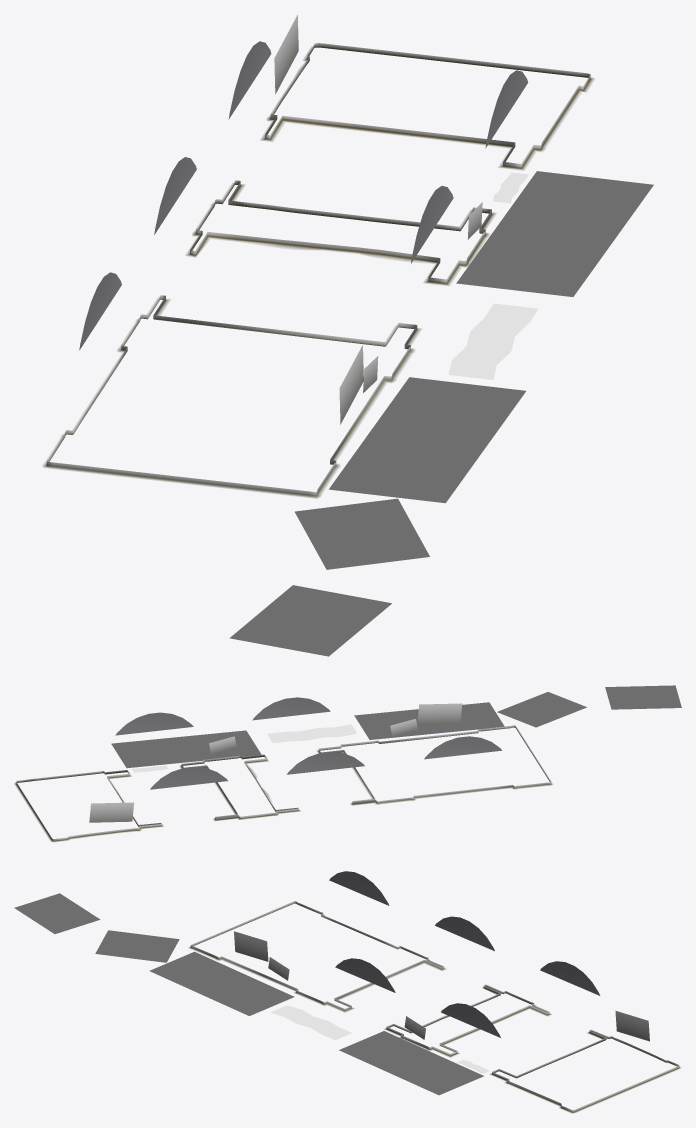
The model's file is bay_bx_glualfa02.FBX.
The picture shows the model from 3 angles, top to bottom: view 1: azimuth 30°, elevation 25°; view 2: azimuth 150°, elevation 25°; view 3: azimuth 270°, elevation 25°; orthographic projection. The views are drawn at different scales.
Parts seen in each view (by area): view 1: bay_bx_glualfa02; view 2: bay_bx_glualfa02; view 3: bay_bx_glualfa02.
Part boxes in pixels (x1,y1,x2,y2): bay_bx_glualfa02: [42, 15, 653, 656]; bay_bx_glualfa02: [14, 685, 681, 842]; bay_bx_glualfa02: [14, 871, 681, 1113].
Bounding box in the file's own units: 76.41 × 9.76 × 98.27.
